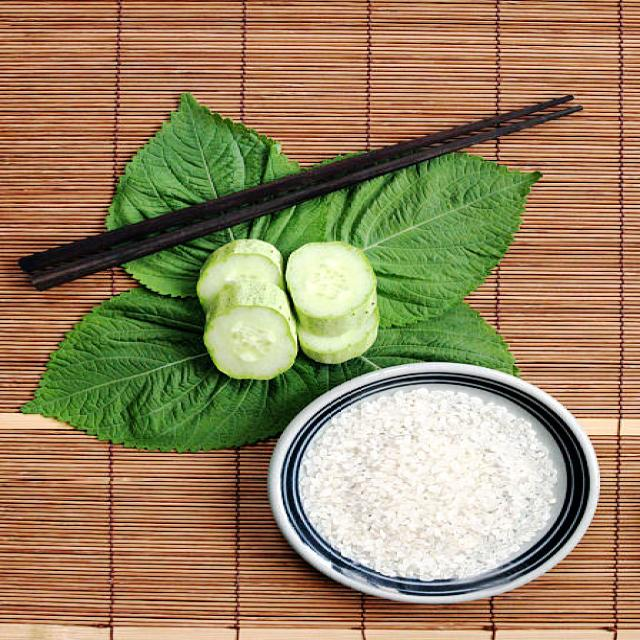rice: (297, 389, 557, 581)
